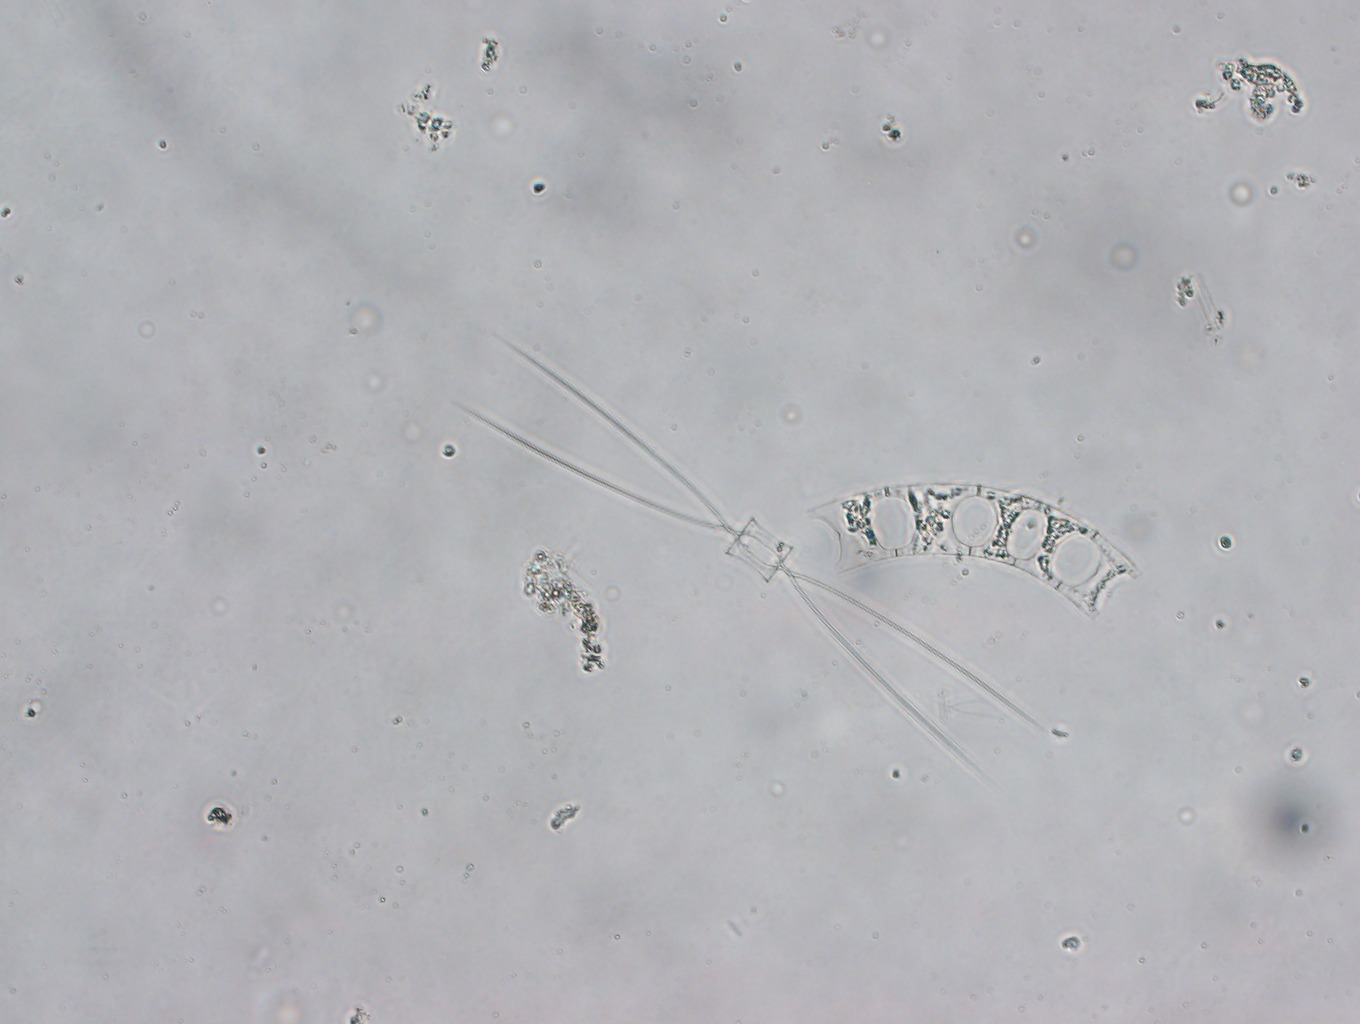chaetoceros: (448, 332, 1045, 787)
eucampia: (811, 481, 1139, 617)
